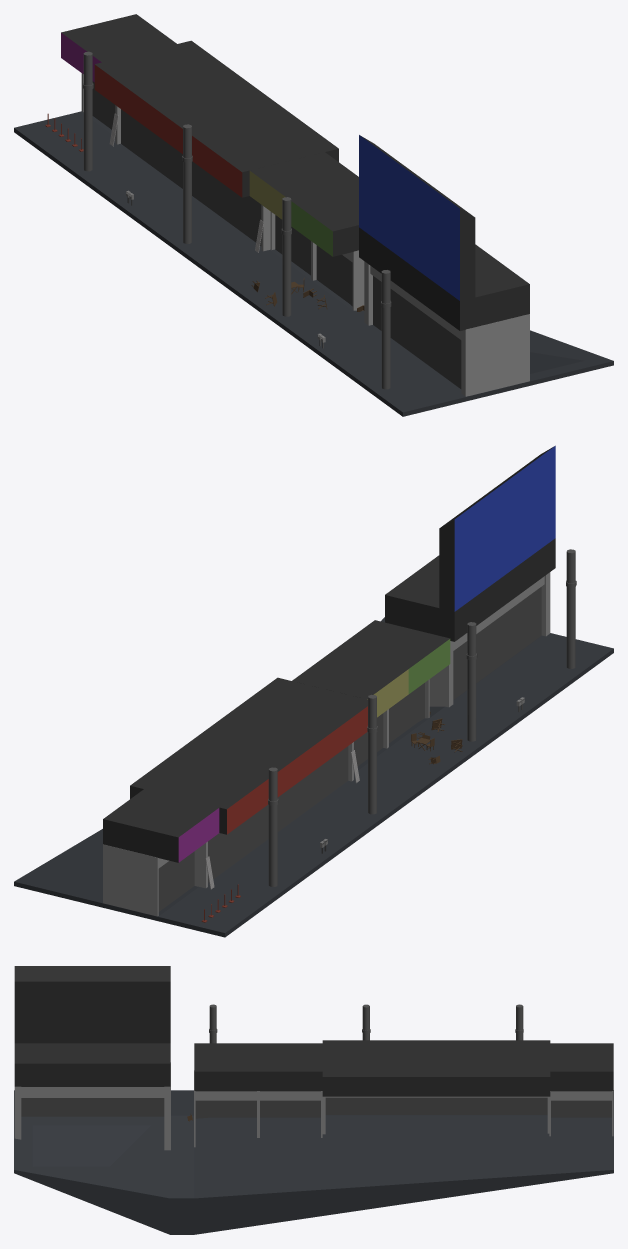
File: Bloco1.fbx
3 views of the same model, one above another, from view 1: azimuth 30°, elevation 25°; view 2: azimuth 150°, elevation 25°; view 3: azimuth 270°, elevation 25° (orthographic). The views are drawn at different scales.
Visible parts, largest first — view 1: Bloco1; view 2: Bloco1; view 3: Bloco1.
Part boxes in pixels (bbox=[...]): Bloco1: bbox=[14, 14, 613, 416]; Bloco1: bbox=[14, 445, 613, 937]; Bloco1: bbox=[14, 966, 613, 1234].
Size of the model in its own units: 2507 by 3106 by 8000.
